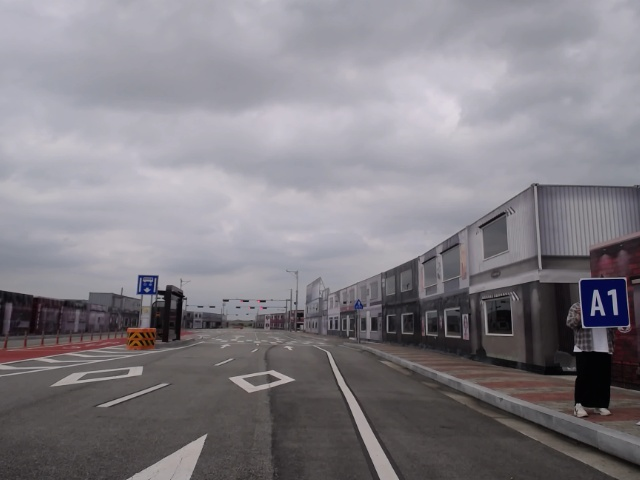delivery_a1: (579, 278, 630, 329)
